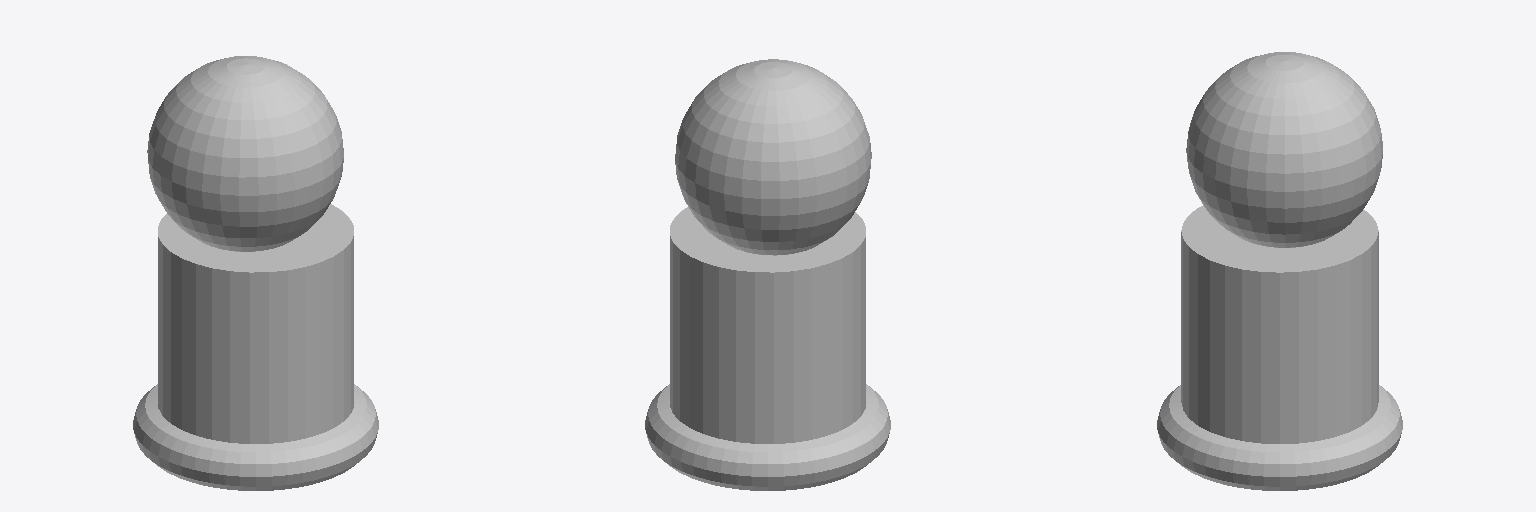
The model's file is Bauer.obj.
3 renders of one model, left to right at view 1: azimuth 30°, elevation 25°; view 2: azimuth 150°, elevation 25°; view 3: azimuth 270°, elevation 25°, orthographic.
Visible parts, largest first — view 1: Torus; view 2: Torus; view 3: Torus.
Boxes of the visible parts, x1,y1,x2,y2 form: Torus: [133, 56, 378, 490]; Torus: [645, 59, 890, 490]; Torus: [1157, 52, 1402, 490].
Size of the model in its own units: 2.5 by 4.28 by 2.5.